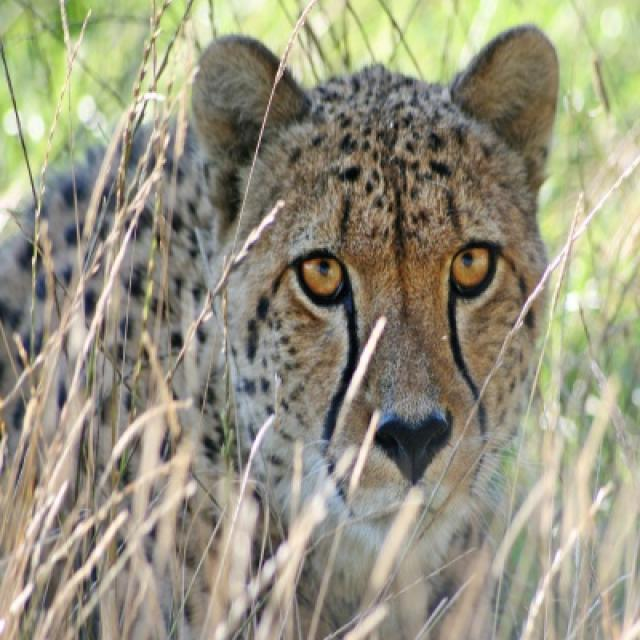Cheetah: (0, 24, 560, 638)
